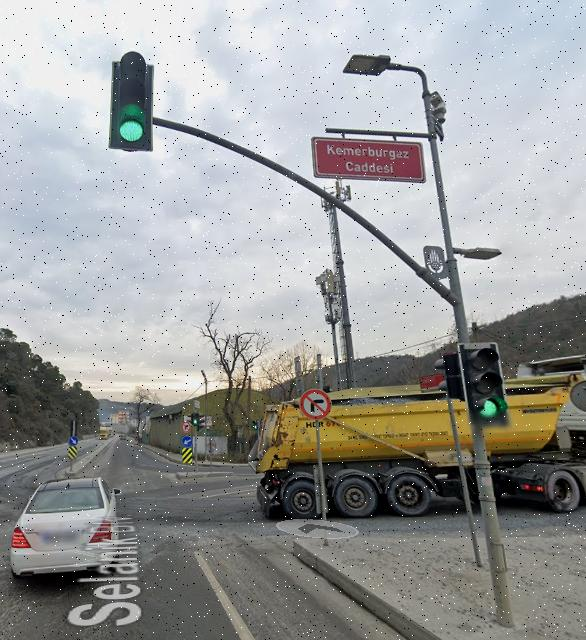greenlight: (108, 54, 155, 151), (457, 343, 507, 425)
rightturnsareforbidden: (302, 390, 331, 418)
